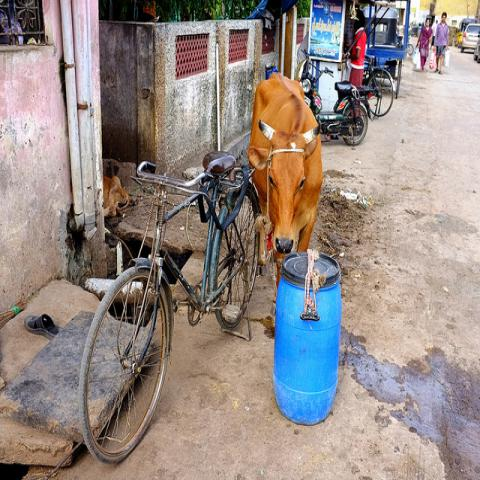car: (460, 24, 480, 53), (473, 41, 479, 64)
motorcycle: (296, 48, 374, 147)
